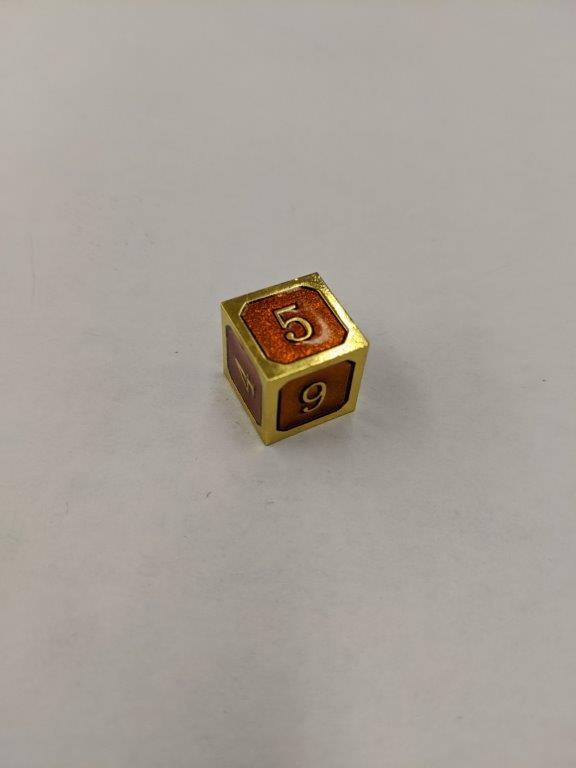d6-5: (220, 269, 368, 443)
